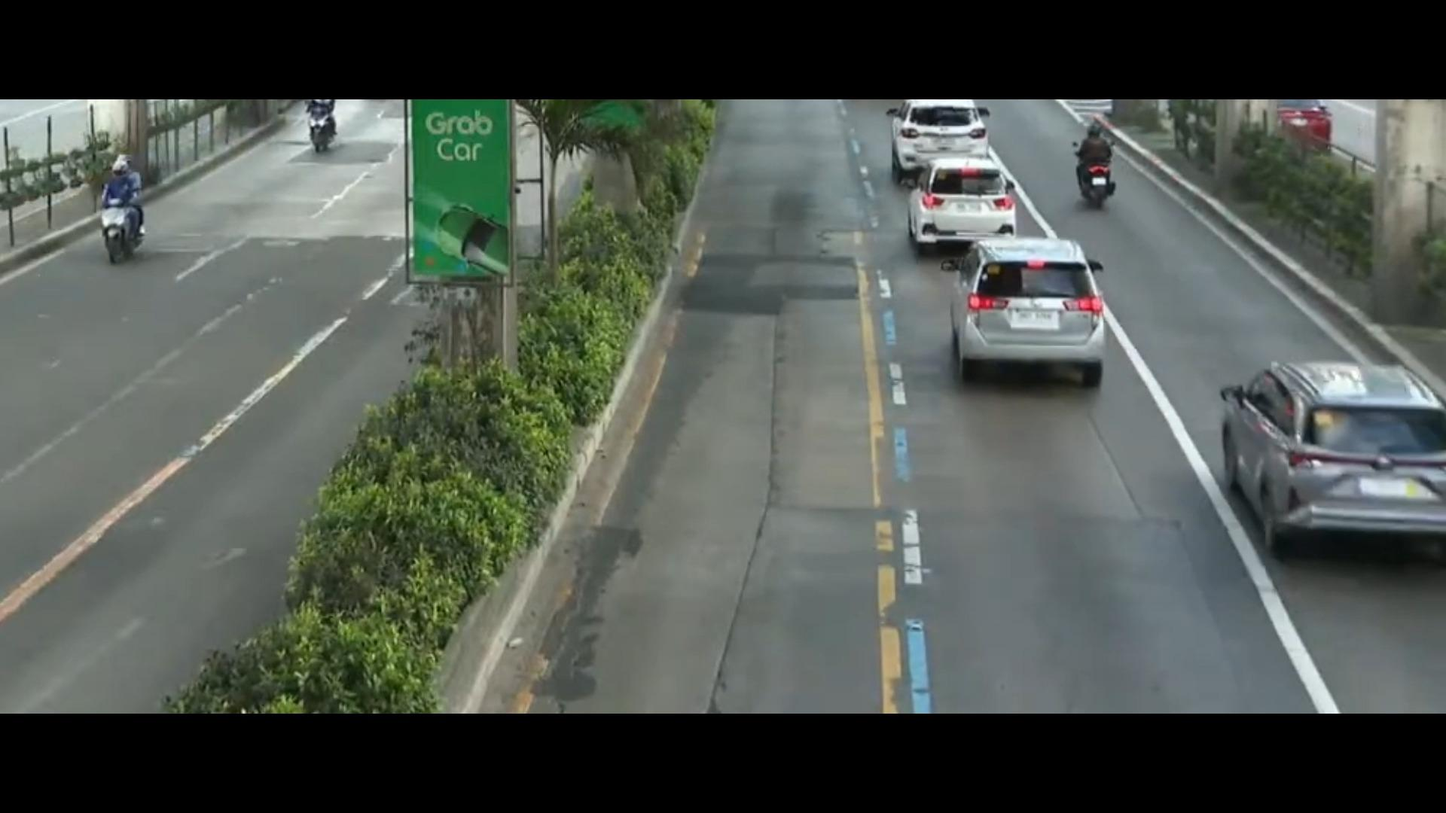Motorcycle: (62, 138, 160, 274), (1063, 108, 1138, 217), (279, 99, 346, 164)
SUV: (1200, 330, 1446, 563), (922, 234, 1119, 407), (880, 94, 1038, 164), (889, 251, 896, 255)
